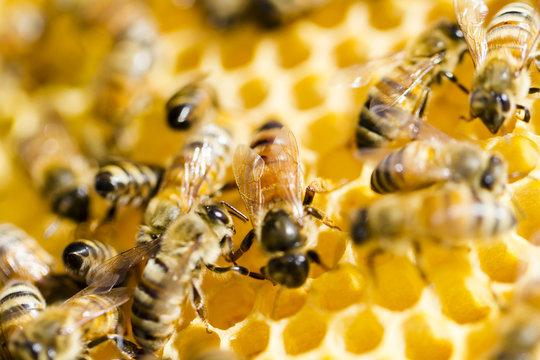Queen-Bee: (232, 120, 338, 287)
worker-bee: (131, 198, 257, 354), (332, 18, 467, 149), (454, 0, 539, 133), (7, 287, 131, 359), (370, 140, 507, 194)
